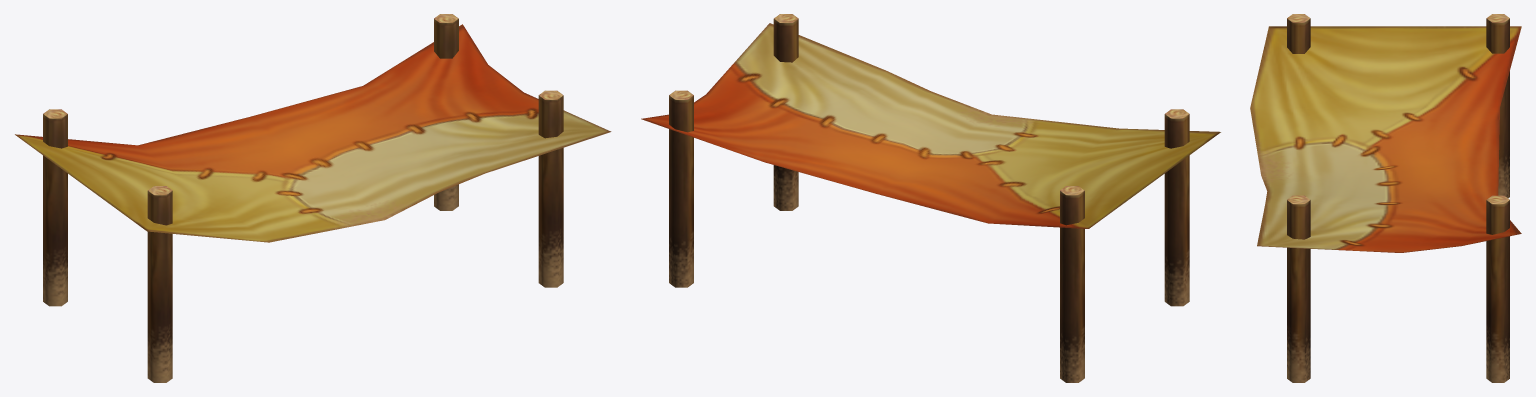
File: tanwei02.FBX
3 views of the same model, side by side, from view 1: azimuth 30°, elevation 25°; view 2: azimuth 150°, elevation 25°; view 3: azimuth 270°, elevation 25° (orthographic). The views are drawn at different scales.
Visible parts, largest first — view 1: 对象052; view 2: 对象052; view 3: 对象052.
Part boxes in pixels (box(x1,y1,x2,y2)): 对象052: box(15, 14, 611, 382); 对象052: box(641, 14, 1220, 382); 对象052: box(1250, 14, 1521, 382).
Bounding box in the file's own units: 318 × 125 × 172.
